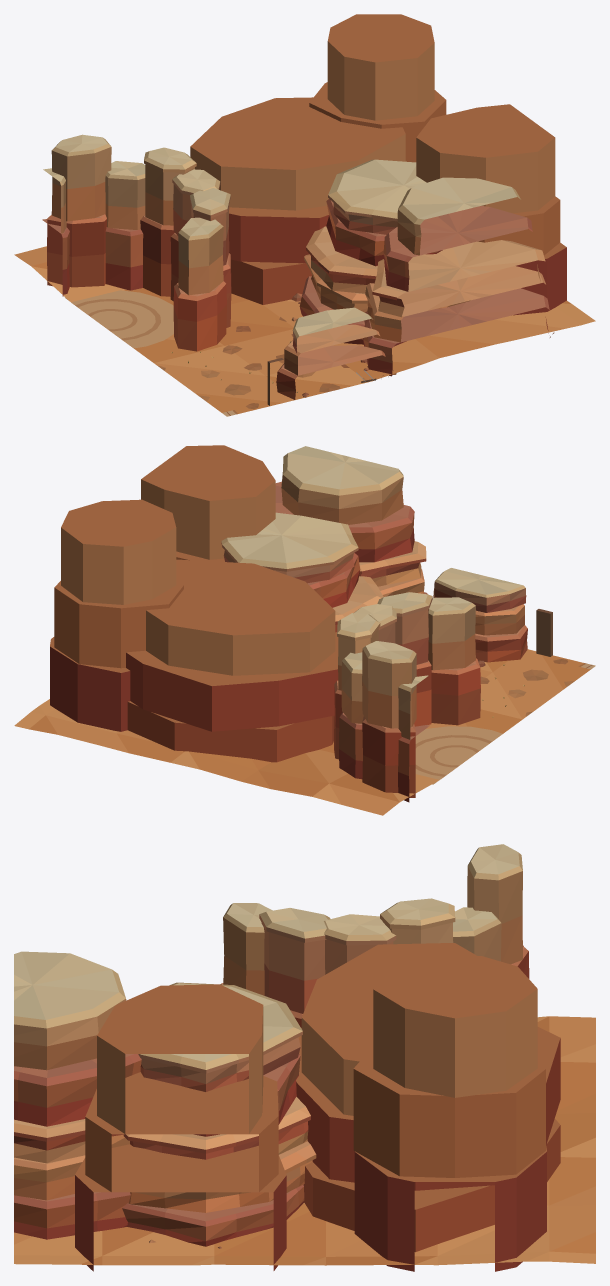
3 renders of one model, top to bottom at view 1: azimuth 30°, elevation 25°; view 2: azimuth 150°, elevation 25°; view 3: azimuth 270°, elevation 25°, orthographic. The views are drawn at different scales.
Visible parts, largest first — view 1: baked; view 2: baked; view 3: baked.
Boxes of the visible parts, x1=… form: baked: x1=14, y1=14, x2=595, y2=416; baked: x1=14, y1=445, x2=595, y2=815; baked: x1=14, y1=844, x2=595, y2=1271.
Bounding box in the file's own units: 62.5 × 29.81 × 62.5.
